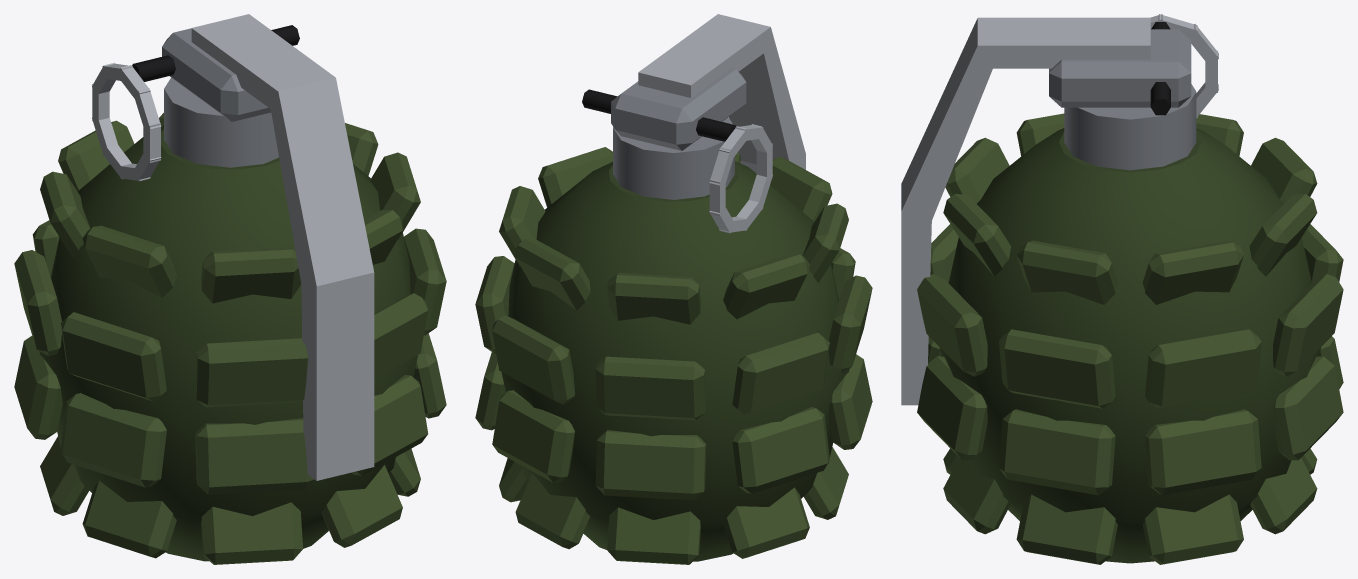
Rendered from Grenade.fbx.
3 renders of one model, left to right at view 1: azimuth 30°, elevation 25°; view 2: azimuth 150°, elevation 25°; view 3: azimuth 270°, elevation 25°, orthographic. The views are drawn at different scales.
Parts seen in each view (by area): view 1: Grenade; view 2: Grenade; view 3: Grenade.
Part boxes in pixels (<box>): Grenade: <box>14,14,446,564</box>; Grenade: <box>475,14,872,564</box>; Grenade: <box>901,14,1343,564</box>.
Bounding box in the file's own units: 73.75 × 95 × 76.46.
